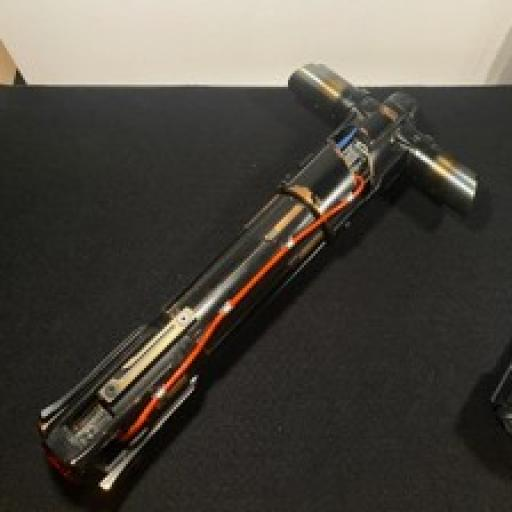lightsaber: (38, 62, 476, 490)
